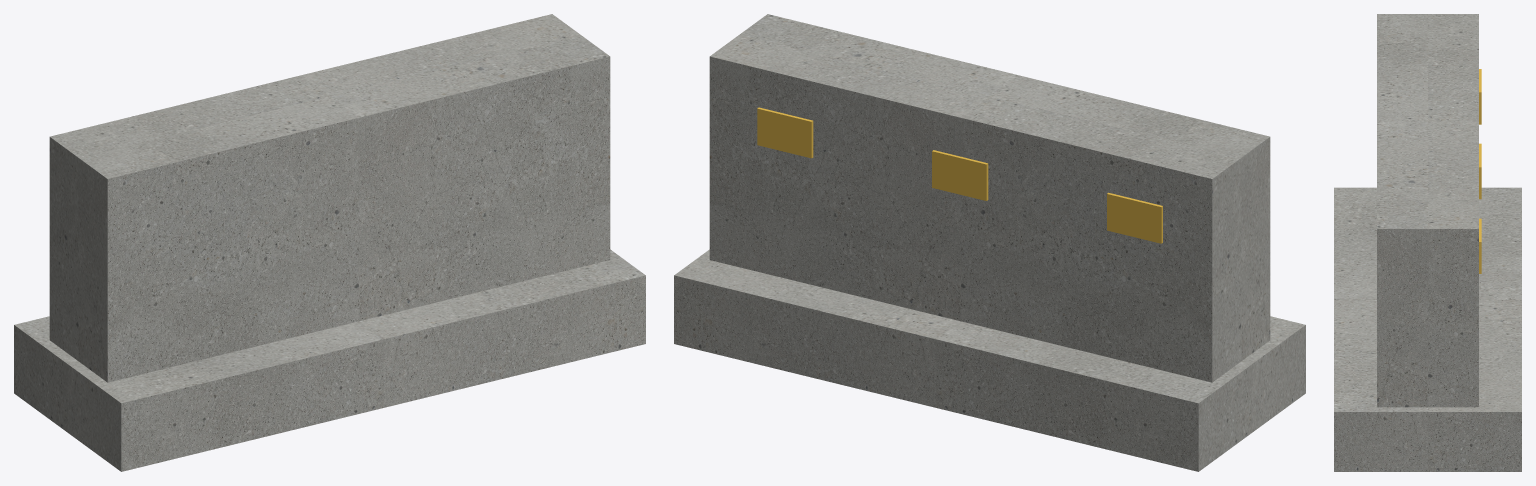
File: concrete_barrier.glb
The picture shows the model from 3 angles, left to right: view 1: azimuth 30°, elevation 25°; view 2: azimuth 150°, elevation 25°; view 3: azimuth 270°, elevation 25°; orthographic projection. The views are drawn at different scales.
Visible parts, largest first — view 1: concrete_barrier; view 2: concrete_barrier; view 3: concrete_barrier.
Part boxes in pixels (x1,y1,x2,y2): concrete_barrier: (14, 14, 645, 471); concrete_barrier: (674, 14, 1305, 471); concrete_barrier: (1334, 14, 1521, 471).
Bounding box in the file's own units: 2.4 × 1.19 × 0.85.
